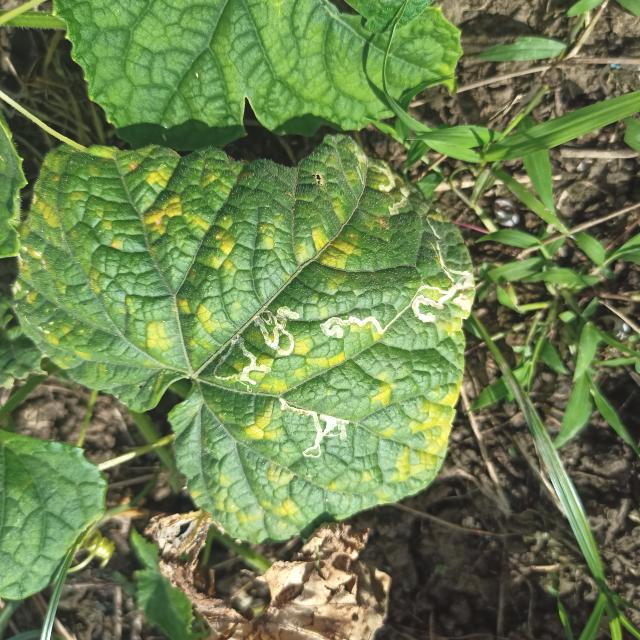disease_cucumber: (25, 144, 475, 528)
